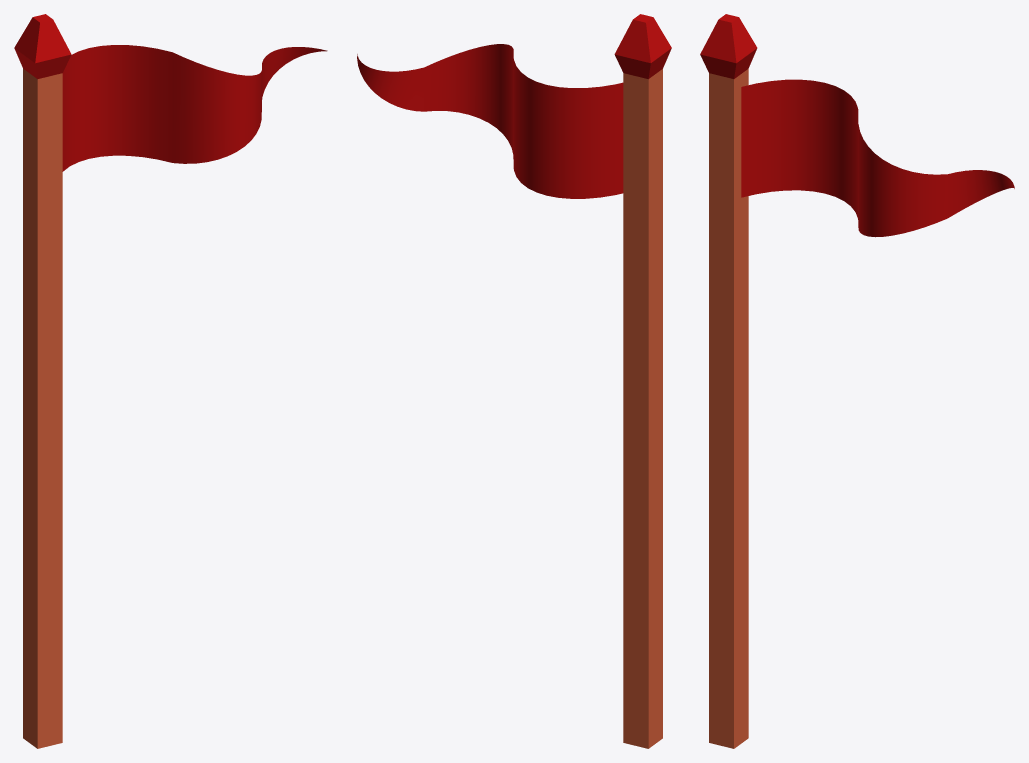
The model's file is Flag.fbx.
The picture shows the model from 3 angles, left to right: view 1: azimuth 30°, elevation 25°; view 2: azimuth 150°, elevation 25°; view 3: azimuth 330°, elevation 25°; orthographic projection.
Visible parts, largest first — view 1: mergedBlocks; view 2: mergedBlocks; view 3: mergedBlocks.
Part boxes in pixels (x1,y1,x2,y2): mergedBlocks: (14,14,327,748); mergedBlocks: (357,14,671,748); mergedBlocks: (700,14,1014,748).
Size of the model in its own units: 3.49 by 7.92 by 0.8991.
